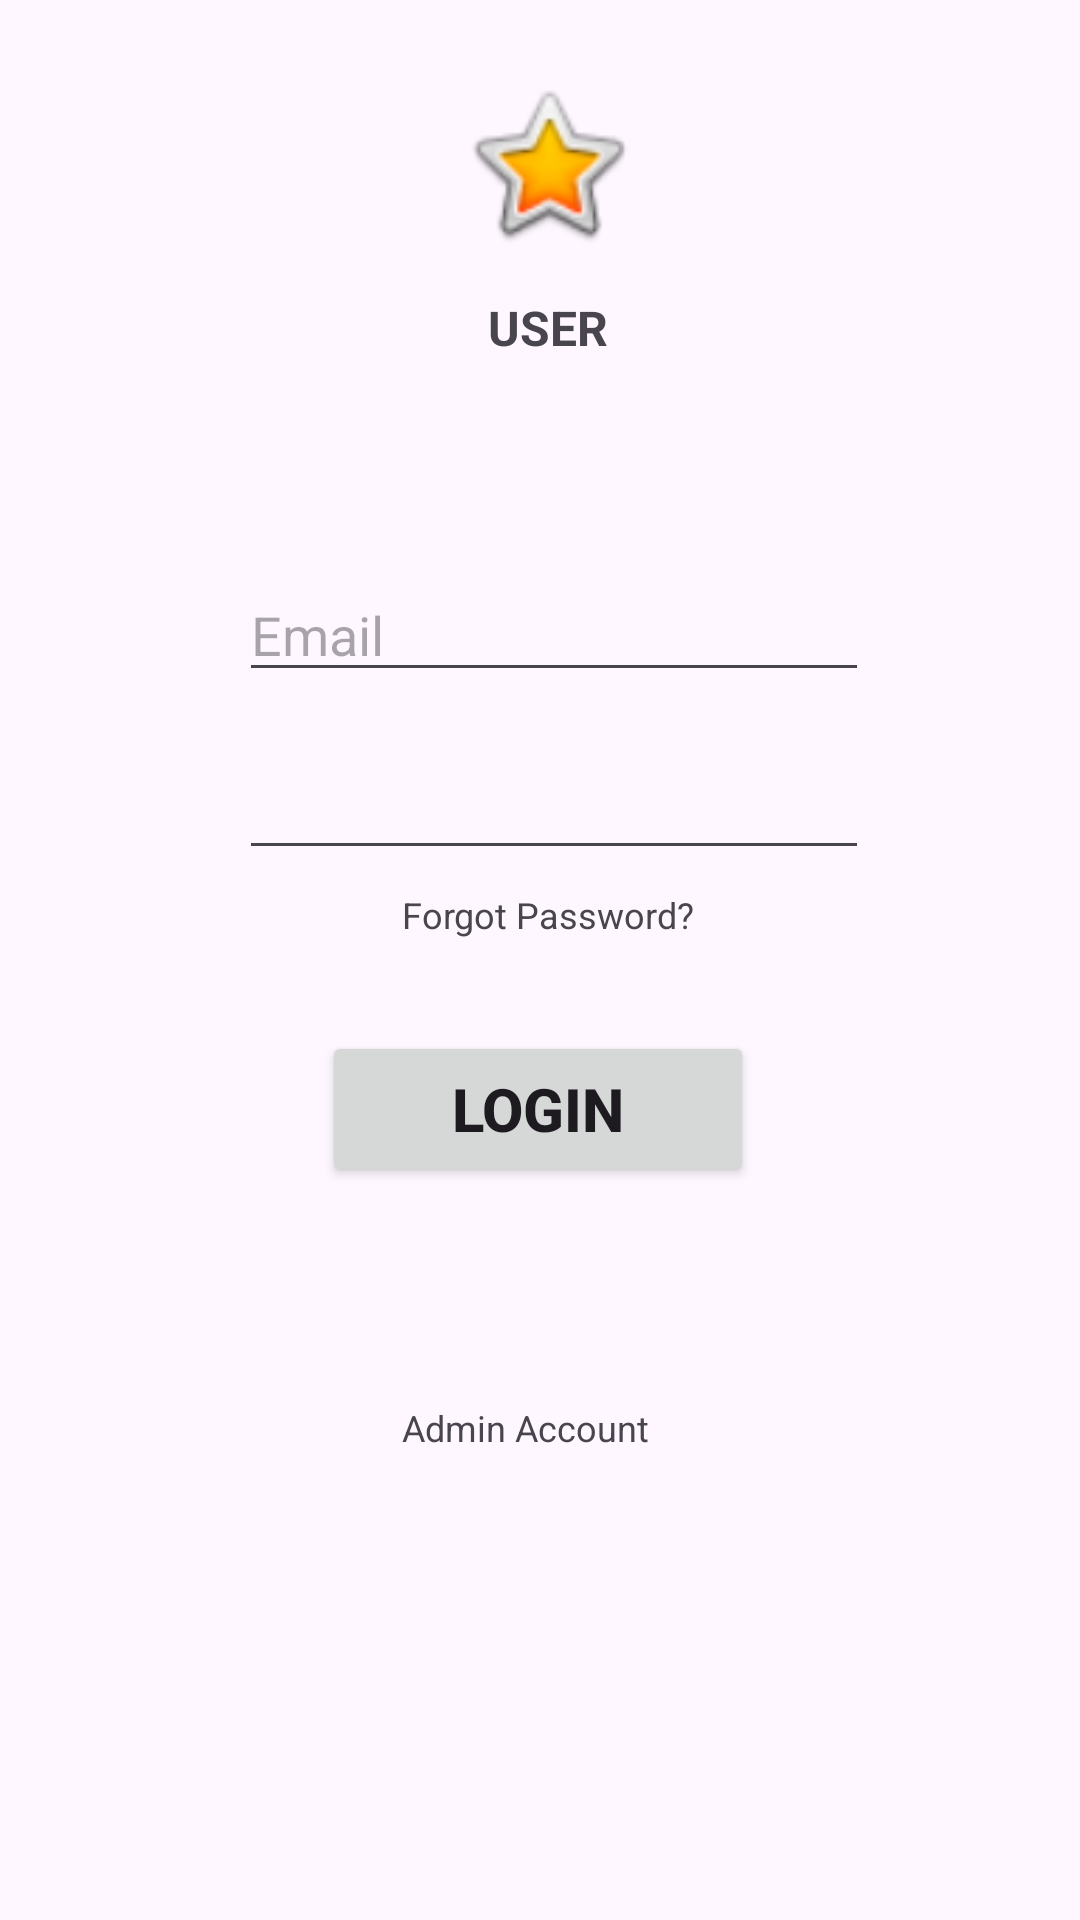

Where icons sit on this 1080×1920 app screen, as (left=x1, top=y1, right=x2, bottom=y2):
star on: (left=474, top=92, right=625, bottom=239)
